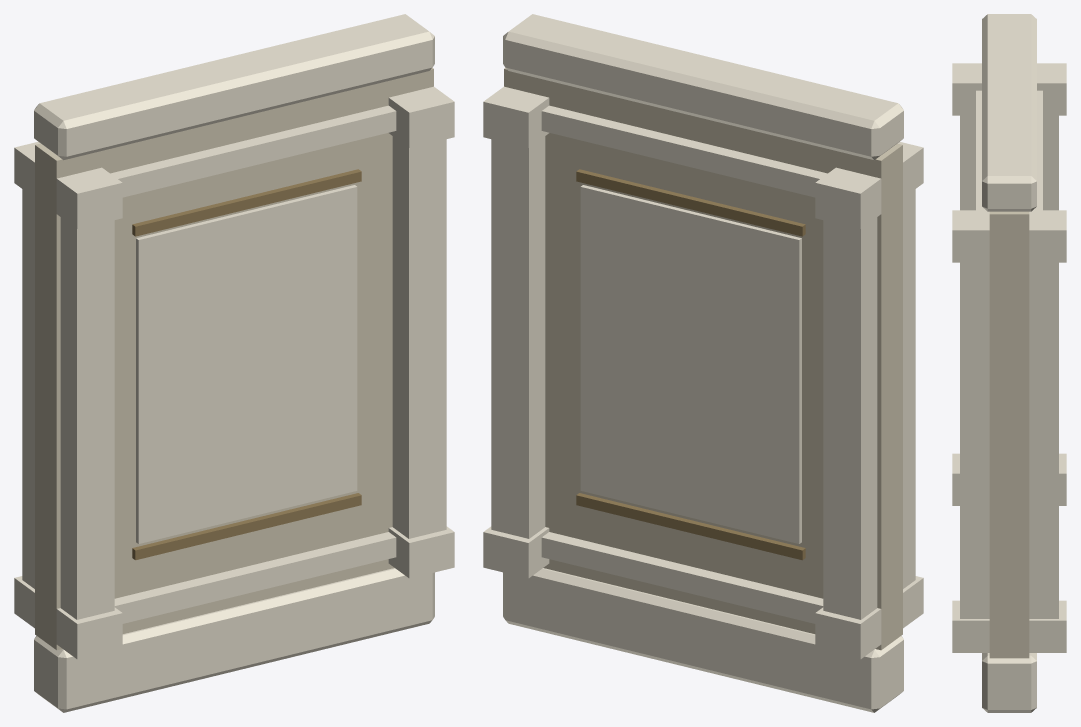
File: installation-bank-wall-solid.glb
3 renders of one model, left to right at view 1: azimuth 30°, elevation 25°; view 2: azimuth 150°, elevation 25°; view 3: azimuth 270°, elevation 25°, orthographic. The views are drawn at different scales.
Visible parts, largest first — view 1: recessed_stone_panel, wall_core, plinth, cornice, pilaster, pilaster.002, stone_course, stone_course.002, pilaster.001, capital.002, capital.006, bronze_reveal (+5 smaller); view 2: recessed_stone_panel.001, wall_core, plinth, cornice, pilaster.001, pilaster.003, stone_course.001, stone_course.003, pilaster, capital.003, capital.007, bronze_reveal.001 (+5 smaller); view 3: wall_core, cornice, pilaster.002, pilaster.003, plinth, capital.007, capital.006, pilaster, pilaster.001, capital.002, capital.003, capital.004 (+7 smaller).
Boxes of the visible parts, left/top/right/bottom form: recessed_stone_panel: left=136, top=185, right=357, bottom=543; wall_core: left=35, top=68, right=433, bottom=650; plinth: left=34, top=568, right=434, bottom=712; cornice: left=34, top=14, right=434, bottom=160; pilaster: left=60, top=217, right=114, bottom=619; pilaster.002: left=392, top=136, right=446, bottom=538; stone_course: left=56, top=532, right=396, bottom=637; stone_course.002: left=56, top=105, right=396, bottom=211; pilaster.001: left=22, top=189, right=34, bottom=588; capital.002: left=56, top=167, right=122, bottom=229; capital.006: left=388, top=86, right=454, bottom=148; bronze_reveal: left=132, top=493, right=361, bottom=560; recessed_stone_panel.001: left=580, top=185, right=801, bottom=543; wall_core: left=504, top=68, right=902, bottom=650; plinth: left=503, top=568, right=903, bottom=712; cornice: left=503, top=14, right=903, bottom=160; pilaster.001: left=823, top=217, right=877, bottom=619; pilaster.003: left=491, top=136, right=545, bottom=538; stone_course.001: left=541, top=532, right=881, bottom=637; stone_course.003: left=541, top=105, right=881, bottom=211; pilaster: left=903, top=189, right=915, bottom=588; capital.003: left=815, top=167, right=881, bottom=229; capital.007: left=483, top=86, right=549, bottom=148; bronze_reveal.001: left=576, top=493, right=805, bottom=560; wall_core: left=989, top=211, right=1029, bottom=658; cornice: left=982, top=14, right=1036, bottom=211; pilaster.002: left=960, top=262, right=989, bottom=618; pilaster.003: left=1029, top=262, right=1058, bottom=618; plinth: left=982, top=653, right=1036, bottom=712; capital.007: left=1029, top=210, right=1066, bottom=262; capital.006: left=952, top=210, right=989, bottom=262; pilaster: left=960, top=115, right=975, bottom=210; pilaster.001: left=1043, top=115, right=1058, bottom=210; capital.002: left=952, top=63, right=981, bottom=115; capital.003: left=1037, top=63, right=1066, bottom=115; capital.004: left=952, top=600, right=989, bottom=652.
Bounding box in the file's own units: 1 × 1.5 × 0.29.
